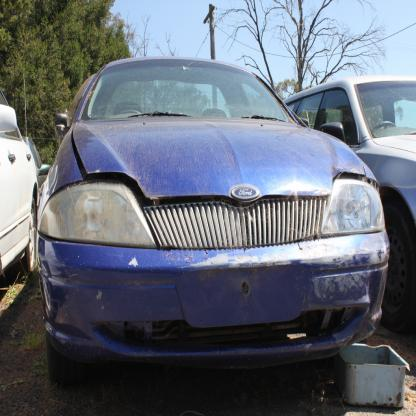Car: (18, 52, 393, 390), (274, 75, 416, 334), (1, 78, 41, 290), (20, 81, 50, 184)
